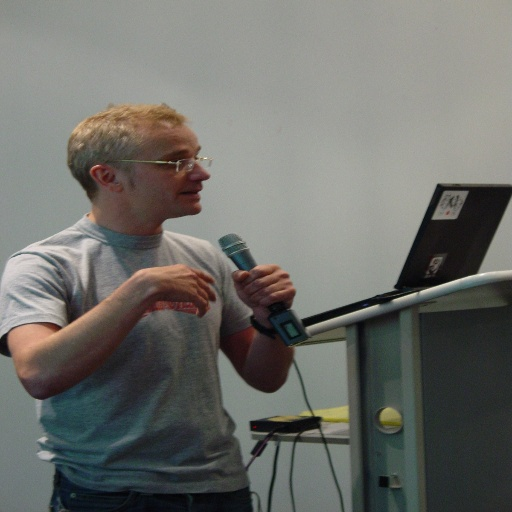hand: (224, 274, 312, 366), (133, 263, 216, 319)
